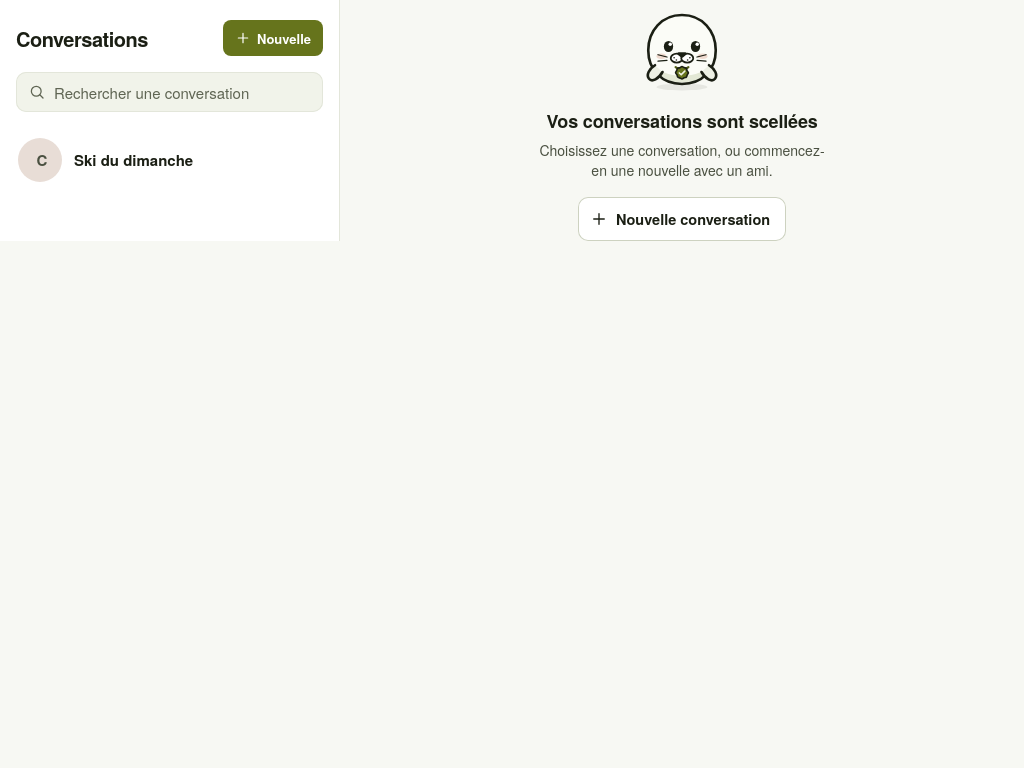
Test: pages/conversations : écran Conversations (CNV-04, ADR 0041) › CNV-01 : « Nouvelle conversation » ouvre le dialogue
Click the button with aria-label "Nouvelle conversation".
click(273, 38)  # box [223,20,323,56]
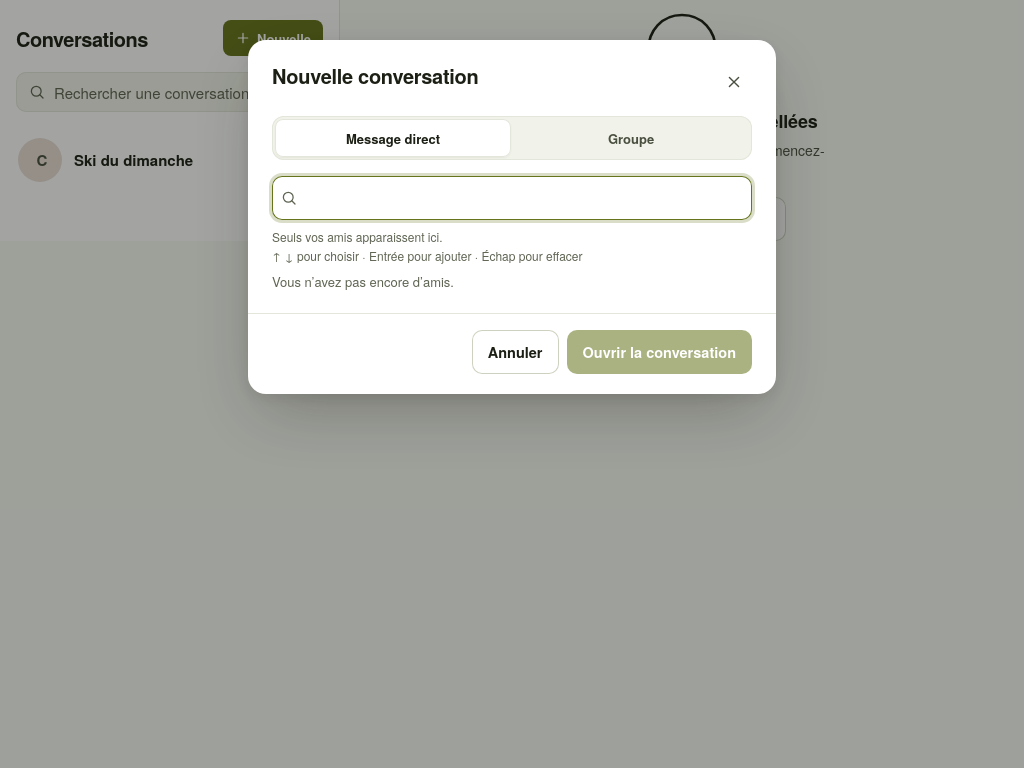
Check: the dialog "Nouvelle conversation" is shown, box [248,40,776,394]
